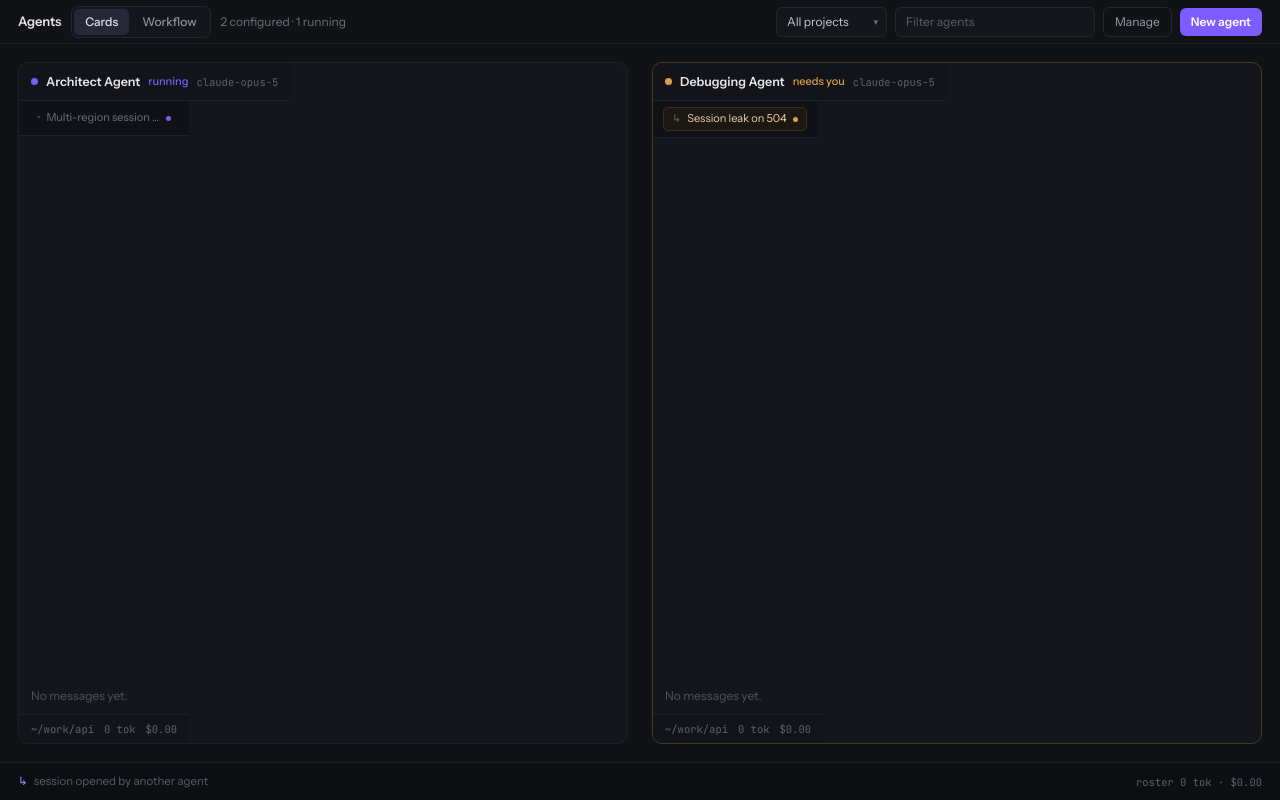
the Cards/Workflow switcher › the grid shows cards until Workflow is picked
Click the tab "Workflow".
click(169, 22)  # box 131,8 -> 208,34
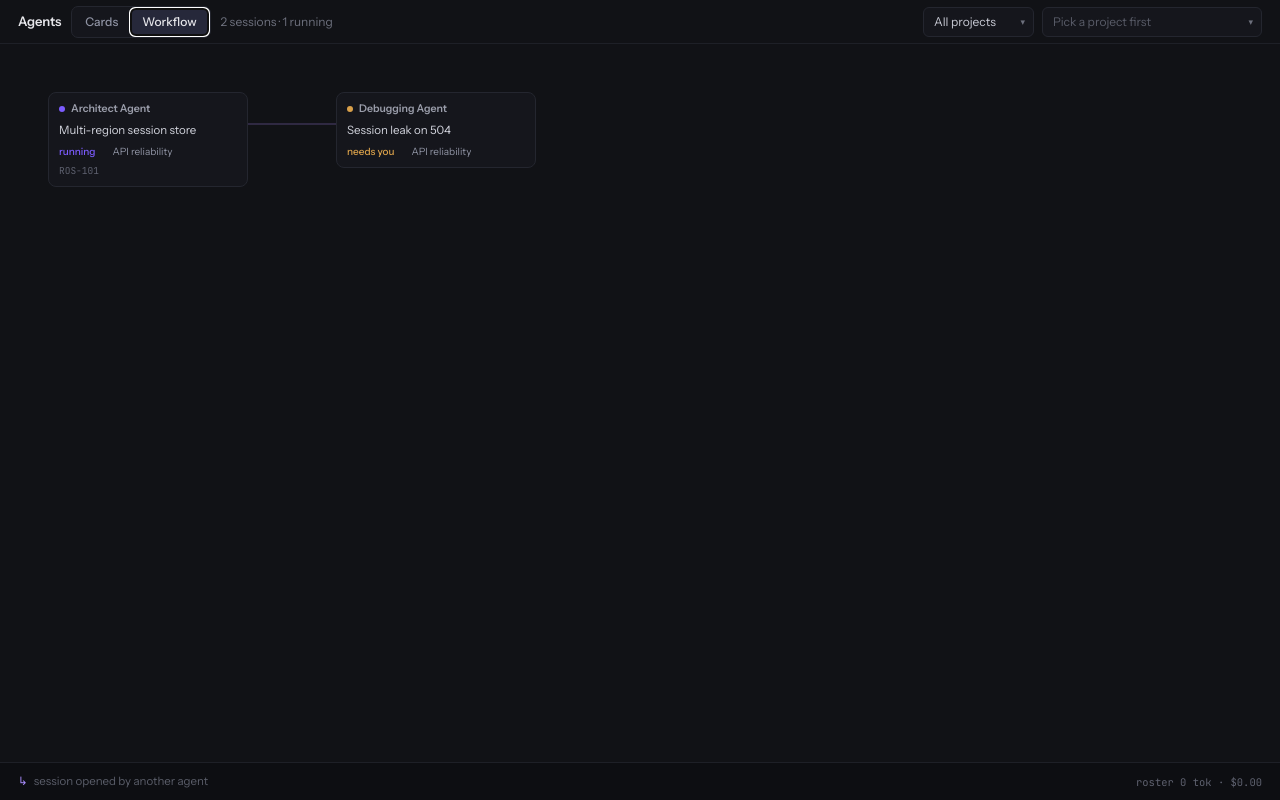
Expected: the button with aria-label "Open Architect Agent" is shown, 48,92 -> 248,187
